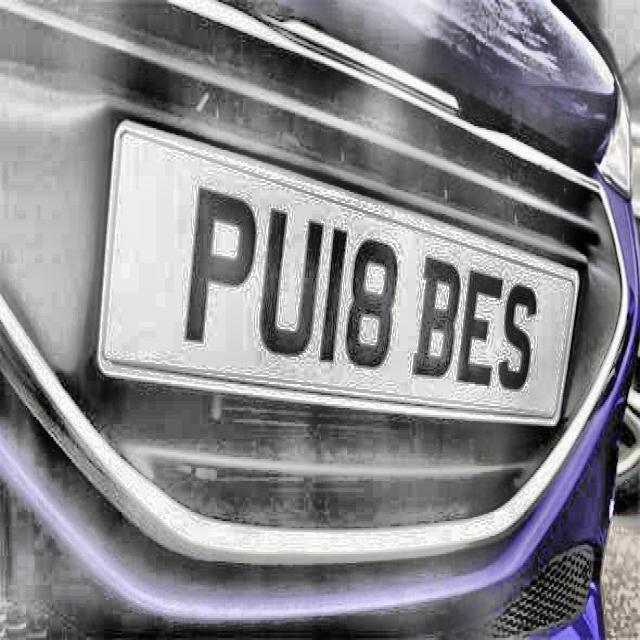license_plate: (94, 154, 567, 458)
